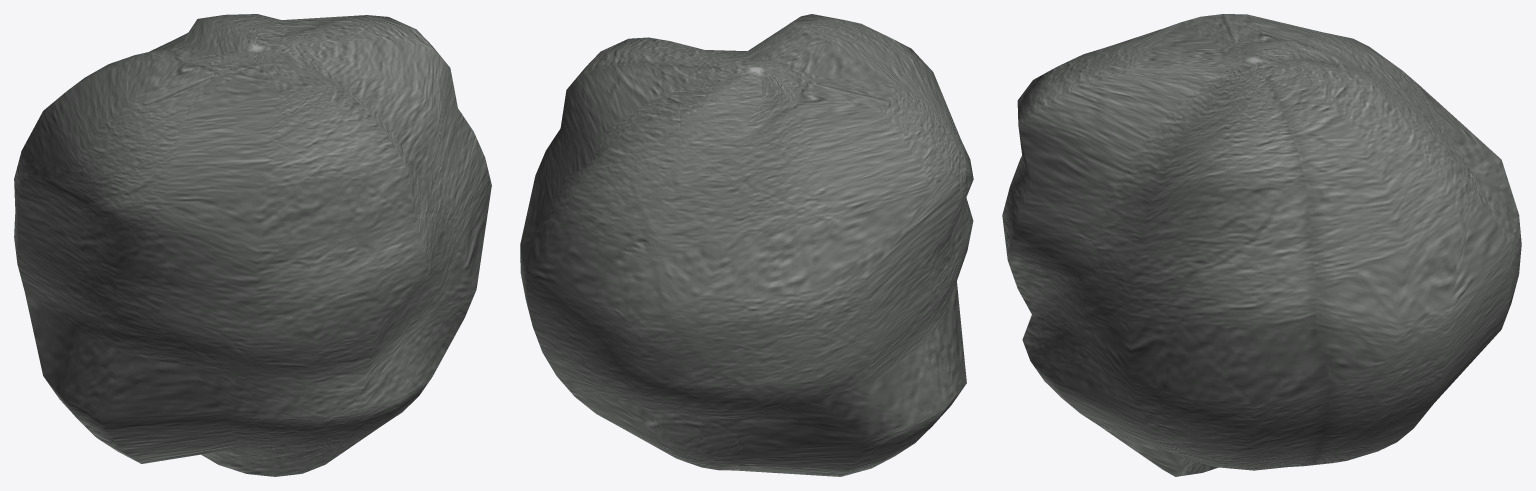
File: Irreg_round_stone_3.fbx
3 renders of one model, left to right at view 1: azimuth 30°, elevation 25°; view 2: azimuth 150°, elevation 25°; view 3: azimuth 270°, elevation 25°, orthographic. The views are drawn at different scales.
Visible parts, largest first — view 1: pSphere1; view 2: pSphere1; view 3: pSphere1.
Part boxes in pixels (x1,y1,x2,y2): pSphere1: [14, 14, 491, 476]; pSphere1: [520, 14, 973, 476]; pSphere1: [1002, 14, 1521, 476].
Size of the model in its own units: 2.28 by 2.11 by 2.47.
Materials: 1 (1 with a texture image).
